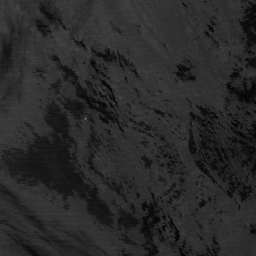Target: (83, 115, 89, 122)
